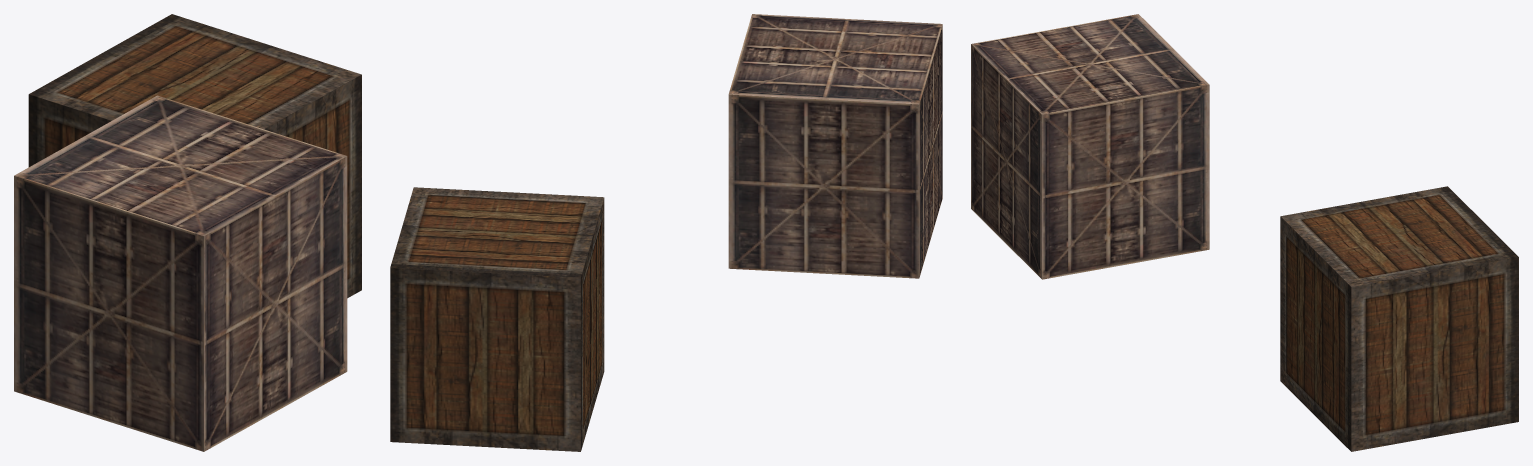
The model's file is bloques_triang_v2.obj.
The picture shows the model from 3 angles, left to right: view 1: azimuth 30°, elevation 25°; view 2: azimuth 150°, elevation 25°; view 3: azimuth 270°, elevation 25°; orthographic projection. The views are drawn at different scales.
Parts seen in each view (by area): view 1: Box003.001, Box003.000; view 2: Box003.001, Box003.000; view 3: Box003.001, Box003.000.
Part boxes in pixels (x1,y1,x2,y2): Box003.001: (14,95,347,451); Box003.000: (28,14,361,298); Box003.001: (728,14,942,278); Box003.000: (390,187,604,451); Box003.001: (971,14,1209,279); Box003.000: (1280,186,1518,451).
Size of what is drawn, in the model's own units: 47.26 by 31.08 by 60.21.
Materials: 2 (2 with a texture image).
